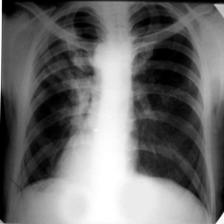tuberculosis: (12, 1, 215, 222)
